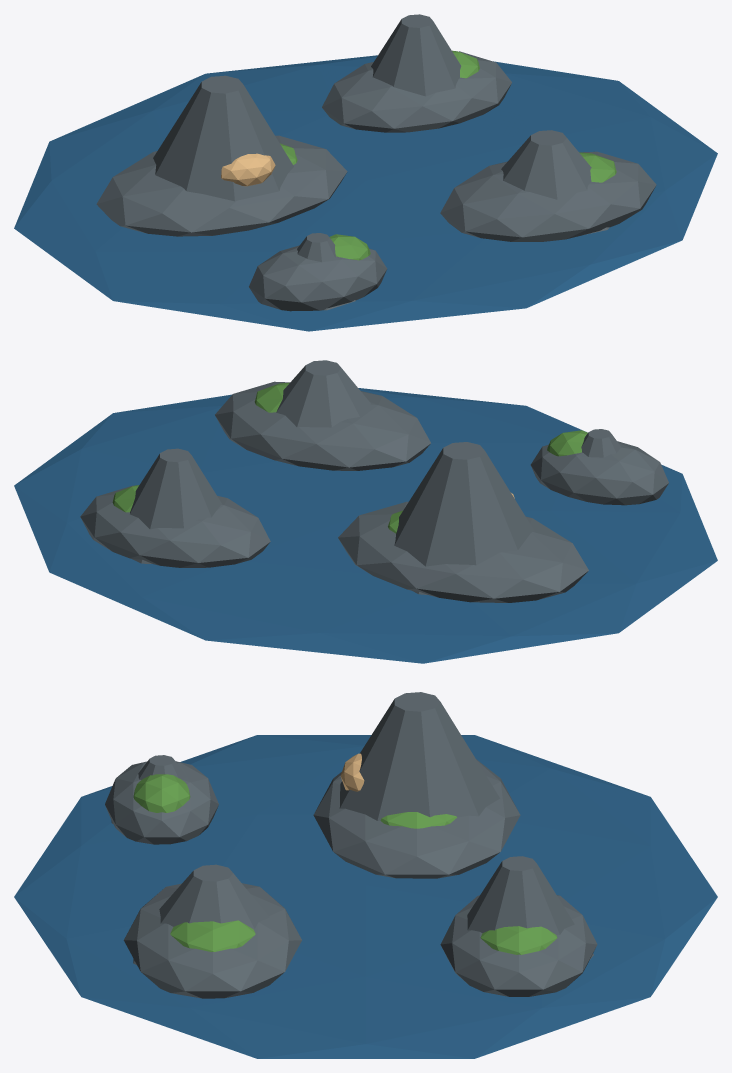
Rendered from FEATURE_GALAPAGOS.fbx.
The picture shows the model from 3 angles, top to bottom: view 1: azimuth 30°, elevation 25°; view 2: azimuth 150°, elevation 25°; view 3: azimuth 270°, elevation 25°; orthographic projection. The views are drawn at different scales.
Parts seen in each view (by area): view 1: Pacific, Lava_island, Lava_island.002, Shield_volcano, Lava_island.001, Lava_island.003, Shield_volcano.001, Shield_volcano.002, Tortoise_shell, Shield_volcano.003, Island_vegetation.003, Island_vegetation.002; view 2: Pacific, Lava_island, Shield_volcano, Lava_island.002, Lava_island.001, Lava_island.003, Shield_volcano.001, Shield_volcano.002, Shield_volcano.003, Island_vegetation.003, Island_vegetation.002; view 3: Pacific, Shield_volcano, Lava_island, Lava_island.002, Lava_island.001, Shield_volcano.001, Lava_island.003, Shield_volcano.002, Island_vegetation.002, Island_vegetation.003, Island_vegetation.001, Island_vegetation (+2 smaller).
Part boxes in pixels (x1=…): Pacific: x1=14, y1=55, x2=717, y2=331; Lava_island: x1=96, y1=135, x2=347, y2=236; Lava_island.002: x1=440, y1=151, x2=656, y2=241; Shield_volcano: x1=153, y1=75, x2=293, y2=201; Lava_island.001: x1=322, y1=51, x2=511, y2=132; Lava_island.003: x1=249, y1=245, x2=387, y2=311; Shield_volcano.001: x1=371, y1=14, x2=461, y2=96; Shield_volcano.002: x1=501, y1=130, x2=609, y2=234; Tortoise_shell: x1=221, y1=153, x2=275, y2=186; Shield_volcano.003: x1=297, y1=233, x2=355, y2=310; Island_vegetation.003: x1=329, y1=234, x2=370, y2=260; Island_vegetation.002: x1=579, y1=152, x2=616, y2=182; Pacific: x1=14, y1=388, x2=717, y2=663; Lava_island: x1=338, y1=501, x2=588, y2=602; Shield_volcano: x1=394, y1=442, x2=534, y2=594; Lava_island.002: x1=215, y1=381, x2=430, y2=470; Lava_island.001: x1=80, y1=485, x2=270, y2=567; Lava_island.003: x1=530, y1=441, x2=668, y2=505; Shield_volcano.001: x1=130, y1=448, x2=221, y2=563; Shield_volcano.002: x1=276, y1=360, x2=370, y2=427; Shield_volcano.003: x1=581, y1=429, x2=620, y2=457; Island_vegetation.003: x1=547, y1=430, x2=587, y2=456; Island_vegetation.002: x1=254, y1=382, x2=289, y2=412; Pacific: x1=14, y1=735, x2=717, y2=1058; Shield_volcano: x1=339, y1=692, x2=499, y2=820; Lava_island: x1=313, y1=759, x2=520, y2=878; Lava_island.002: x1=123, y1=883, x2=301, y2=998; Lava_island.001: x1=440, y1=895, x2=597, y2=996; Shield_volcano.001: x1=467, y1=856, x2=593, y2=959; Lava_island.003: x1=105, y1=761, x2=218, y2=844; Shield_volcano.002: x1=133, y1=864, x2=269, y2=964; Island_vegetation.002: x1=170, y1=920, x2=255, y2=951; Island_vegetation.003: x1=133, y1=774, x2=190, y2=812; Island_vegetation.001: x1=480, y1=926, x2=557, y2=954; Island_vegetation: x1=380, y1=812, x2=456, y2=828.
Bounding box in the file's own units: 150 × 31.5 × 138.
